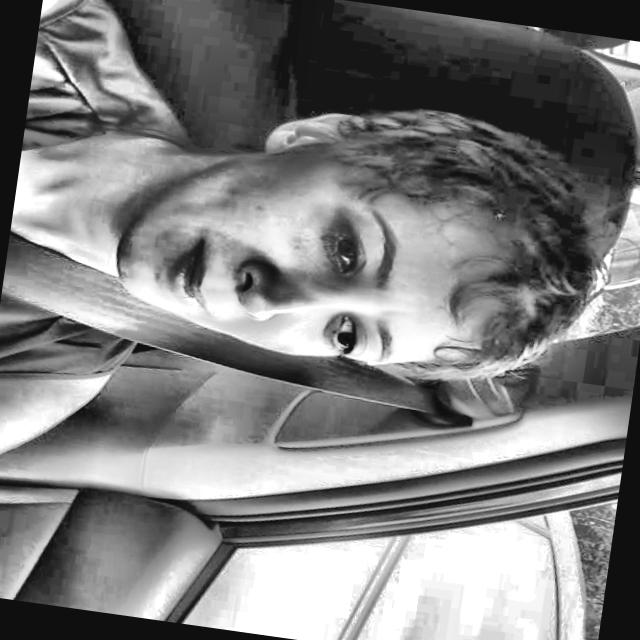closed_mouth: (145, 220, 225, 335)
open_eyes: (305, 212, 376, 285), (309, 304, 372, 371)
